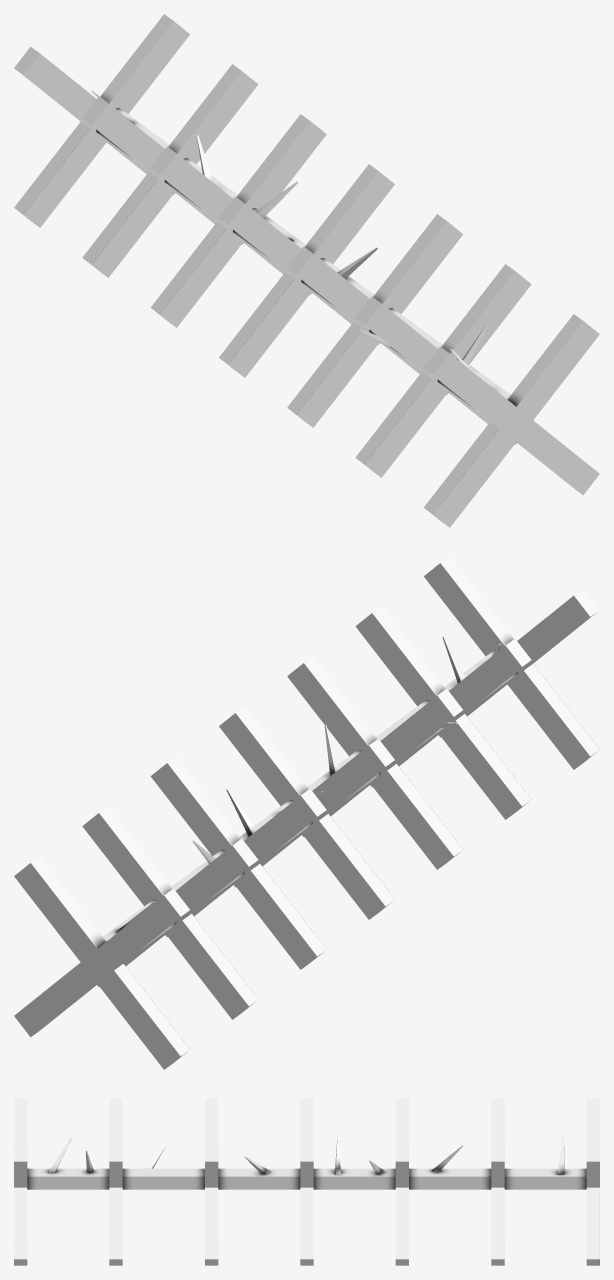
Rendered from barricadaUVW.FBX.
3 renders of one model, top to bottom at view 1: azimuth 30°, elevation 25°; view 2: azimuth 150°, elevation 25°; view 3: azimuth 270°, elevation 25°, orthographic. The views are drawn at different scales.
Visible parts, largest first — view 1: X006, X009, X012, X008, X011, X010, X007, travesaño; view 2: X012, X010, X008, X011, X009, X006, X007, travesaño; view 3: travesaño, X006, X007, X008, X009, X010, X011, X012.
Boxes of the visible parts, left/top/right/bottom form: X006: left=424, top=314, right=599, bottom=527; X009: left=219, top=164, right=394, bottom=377; X012: left=14, top=14, right=189, bottom=227; X008: left=287, top=214, right=463, bottom=427; X011: left=82, top=64, right=258, bottom=277; X010: left=150, top=114, right=326, bottom=327; X007: left=355, top=264, right=531, bottom=477; travesaño: left=96, top=108, right=510, bottom=408; X012: left=14, top=856, right=189, bottom=1069; X010: left=150, top=756, right=326, bottom=969; X008: left=287, top=656, right=463, bottom=869; X011: left=82, top=806, right=258, bottom=1019; X009: left=219, top=706, right=394, bottom=919; X006: left=424, top=556, right=599, bottom=769; X007: left=355, top=606, right=531, bottom=819; travesaño: left=103, top=650, right=517, bottom=950; travesaño: left=27, top=1168, right=586, bottom=1189; X006: left=14, top=1098, right=27, bottom=1265; X007: left=109, top=1098, right=122, bottom=1265; X008: left=205, top=1098, right=218, bottom=1265; X009: left=300, top=1098, right=313, bottom=1265; X010: left=395, top=1098, right=408, bottom=1265; X011: left=491, top=1098, right=504, bottom=1265; X012: left=586, top=1098, right=599, bottom=1265.
Bounding box in the file's own units: 177 × 177 × 770.
